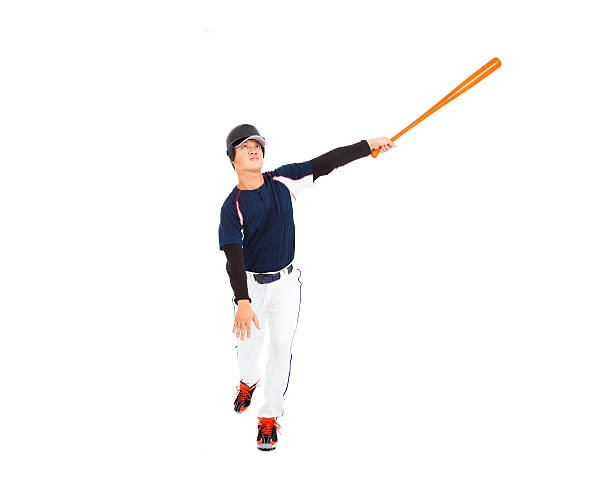bita: (364, 50, 500, 153)
